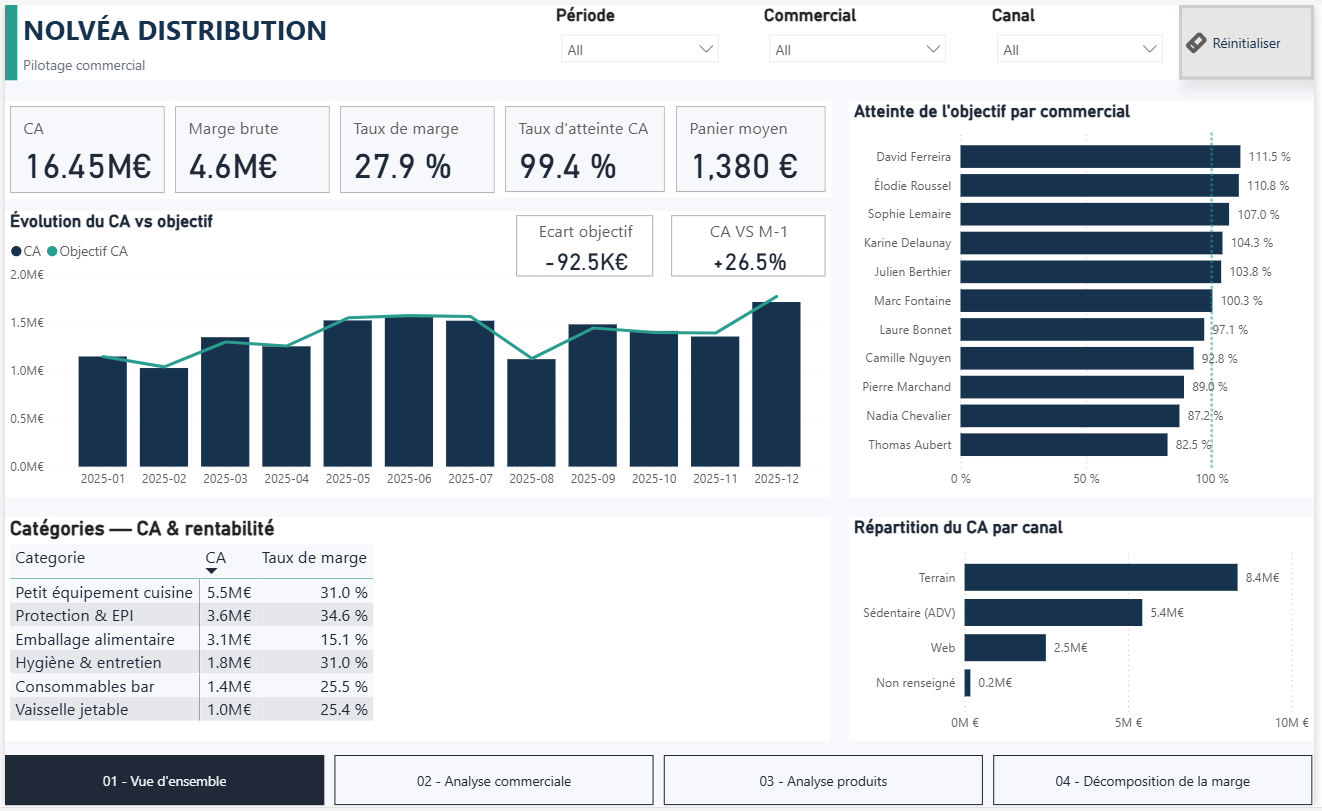

Layout of this report page (visuals, bound fields, positions):
{"tool":"powerbi","page":{"name":"01 - Vue d'ensemble","canvas":[1280,784],"ordinal":0},"visuals":[{"type":"textbox","box":[12.3,0,1267.7,47],"z":0},{"type":"textbox","box":[12.3,45,1267.7,28.6],"z":1000},{"type":"shape","box":[0,0,12.3,73.6],"z":2000},{"type":"cardVisual","fields":{"Data":["_Mesures.CA"]},"box":[0,93.9,161.2,95.8],"z":3000,"group":"g1"},{"type":"lineClusteredColumnComboChart","title":"Évolution du CA vs objectif","fields":{"Category":["Dim_Date.AnneeMois"],"Y":["_Mesures.CA"],"Y2":["_Mesures.Objectif CA"]},"box":[0,201.1,807.4,280.2],"z":3000},{"type":"clusteredBarChart","title":"Atteinte de l''objectif par commercial","fields":{"Category":["Dim_Commercial.NomComplet"],"Y":["_Mesures.Taux d'atteinte CA"]},"box":[825.5,93.7,454.5,387.7],"z":4000},{"type":"cardVisual","fields":{"Data":["_Mesures.Marge brute"]},"box":[161.2,93.9,161.2,95.8],"z":4000,"group":"g1"},{"type":"group","id":"g1","title":"Groupe 1","box":[0,93.9,807.4,95.8],"z":5000},{"type":"cardVisual","fields":{"Data":["_Mesures.Taux de marge"]},"box":[322.4,93.9,161.2,95.8],"z":5000,"group":"g1"},{"type":"cardVisual","fields":{"Data":["_Mesures.Taux d'atteinte CA"]},"box":[483.8,93.9,166.8,94.3],"z":6000,"group":"g1"},{"type":"pivotTable","title":"Catégories — CA & rentabilité","fields":{"Rows":["Dim_Produit.Categorie"],"Values":["_Mesures.CA","_Mesures.Taux de marge"]},"box":[0,501,807.4,219.3],"z":6000},{"type":"cardVisual","fields":{"Data":["_Mesures.Panier moyen"]},"box":[650.6,93.9,156.7,94.4],"z":7000,"group":"g1"},{"type":"clusteredBarChart","title":"Répartition du CA par canal","fields":{"Category":["Dim_Canal.Canal"],"Y":["_Mesures.CA"]},"box":[825.5,501,454.5,219.3],"z":7000},{"type":"slicer","title":"Période","fields":{"Values":["Dim_Date.AnneeMois"]},"box":[533.6,0,174.2,73.3],"z":8000},{"type":"slicer","title":"Commercial","fields":{"Values":["Dim_Commercial.NomComplet"]},"box":[736.9,0,193.1,73.3],"z":9000},{"type":"slicer","title":"Canal","fields":{"Values":["Dim_Canal.Canal"]},"box":[959.8,0,181.5,73.3],"z":10000},{"type":"actionButton","box":[1147.9,0,132.1,73.3],"z":11000},{"type":"pageNavigator","box":[0,732.9,1280,49.6],"z":11001},{"type":"cardVisual","fields":{"Data":["_Mesures.Évolution CA vs M-1 % - Carte"]},"box":[645.7,189.6,161.3,85],"z":11002},{"type":"cardVisual","fields":{"Data":["_Mesures.Écart CA vs objectif"]},"box":[495.9,189.6,144.4,85],"z":11003}]}

Visuals, with their boxes in screenshot pixels (x1, y1, x2, y2), scaled from the page's 1280x784 canvas onto the 1322x811 screenshot:
textbox: box=[13, 0, 1321, 49]
textbox: box=[13, 47, 1321, 76]
shape: box=[0, 0, 13, 76]
cardVisual - _Mesures.CA: box=[0, 97, 166, 196]
"Évolution du CA vs objectif" lineClusteredColumnComboChart: box=[0, 208, 834, 498]
"Atteinte de l''objectif par commercial" clusteredBarChart: box=[853, 97, 1321, 498]
cardVisual - _Mesures.Marge brute: box=[166, 97, 333, 196]
"Groupe 1" group: box=[0, 97, 834, 196]
cardVisual - _Mesures.Taux de marge: box=[333, 97, 499, 196]
cardVisual - _Mesures.Taux d'atteinte CA: box=[500, 97, 672, 195]
"Catégories — CA & rentabilité" pivotTable: box=[0, 518, 834, 745]
cardVisual - _Mesures.Panier moyen: box=[672, 97, 834, 195]
"Répartition du CA par canal" clusteredBarChart: box=[853, 518, 1321, 745]
"Période" slicer: box=[551, 0, 731, 76]
"Commercial" slicer: box=[761, 0, 961, 76]
"Canal" slicer: box=[991, 0, 1179, 76]
actionButton: box=[1186, 0, 1321, 76]
pageNavigator: box=[0, 758, 1321, 809]
cardVisual - _Mesures.Évolution CA vs M-1 % - Carte: box=[667, 196, 833, 284]
cardVisual - _Mesures.Écart CA vs objectif: box=[512, 196, 661, 284]
